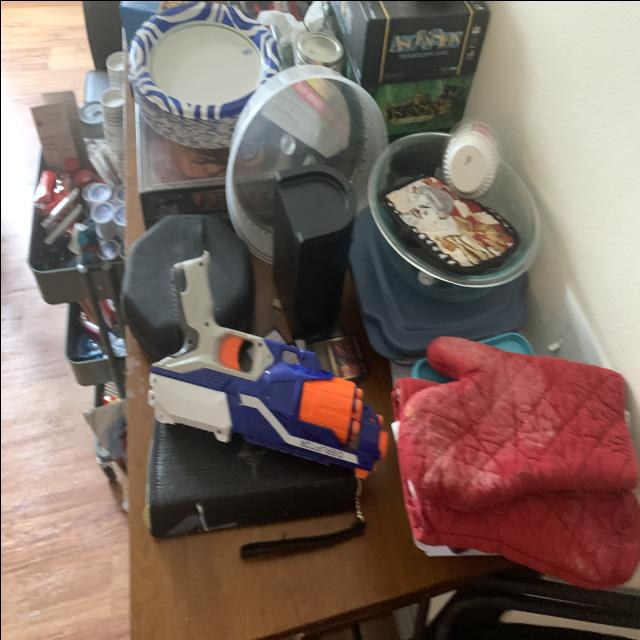nerf-maverik: (143, 235, 395, 507)
